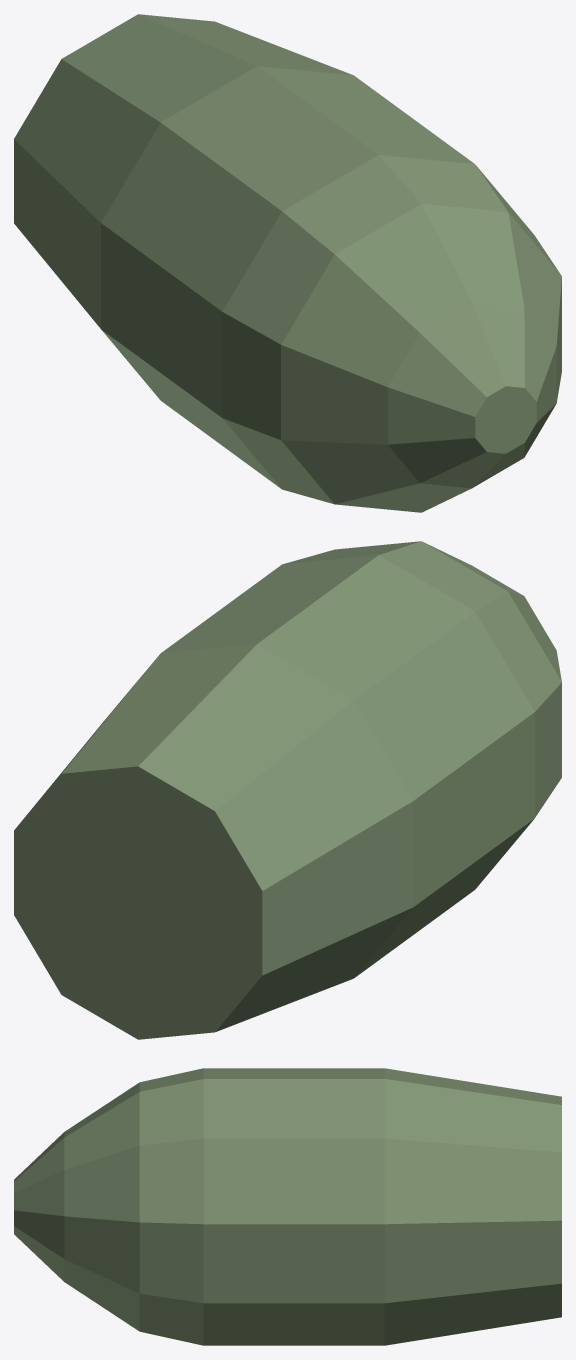
The model's file is ArtilleryShell.fbx.
3 renders of one model, top to bottom at view 1: azimuth 30°, elevation 25°; view 2: azimuth 150°, elevation 25°; view 3: azimuth 270°, elevation 25°, orthographic. The views are drawn at different scales.
Visible parts, largest first — view 1: Cylinder.027; view 2: Cylinder.027; view 3: Cylinder.027.
Part boxes in pixels (x1,y1,x2,y2): Cylinder.027: (14,14,561,512); Cylinder.027: (14,541,561,1039); Cylinder.027: (14,1068,561,1345).
Size of the model in its own units: 24.42 by 25.67 by 49.76.
